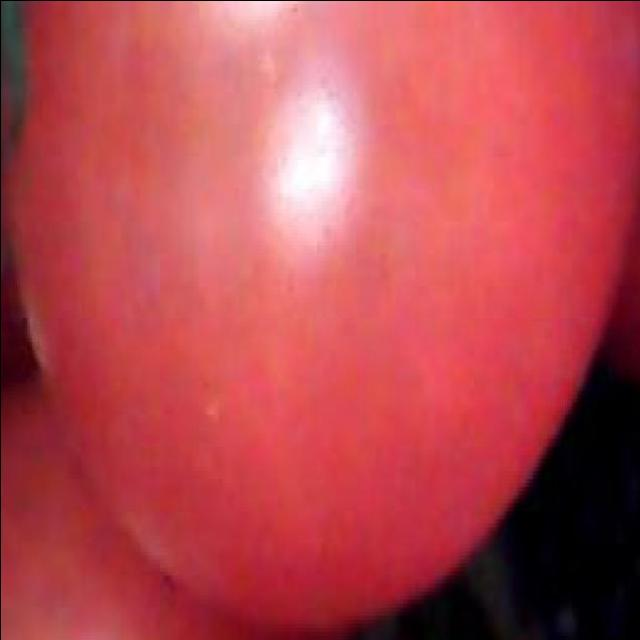Healthy: (0, 0, 639, 622)
